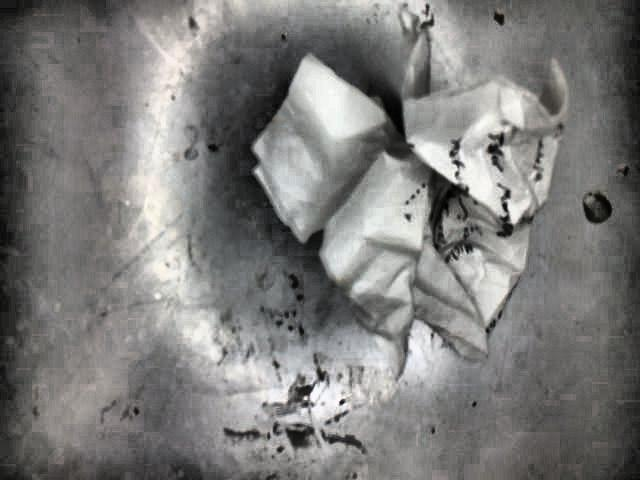Paper: (226, 3, 623, 384)
